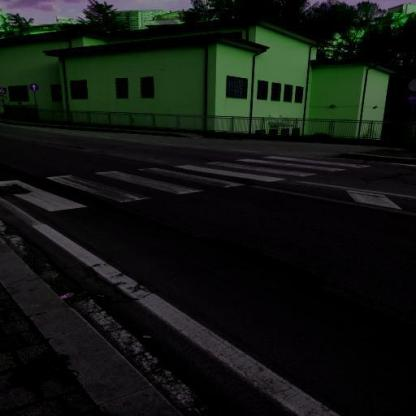crosswalk: (39, 168, 210, 206)
